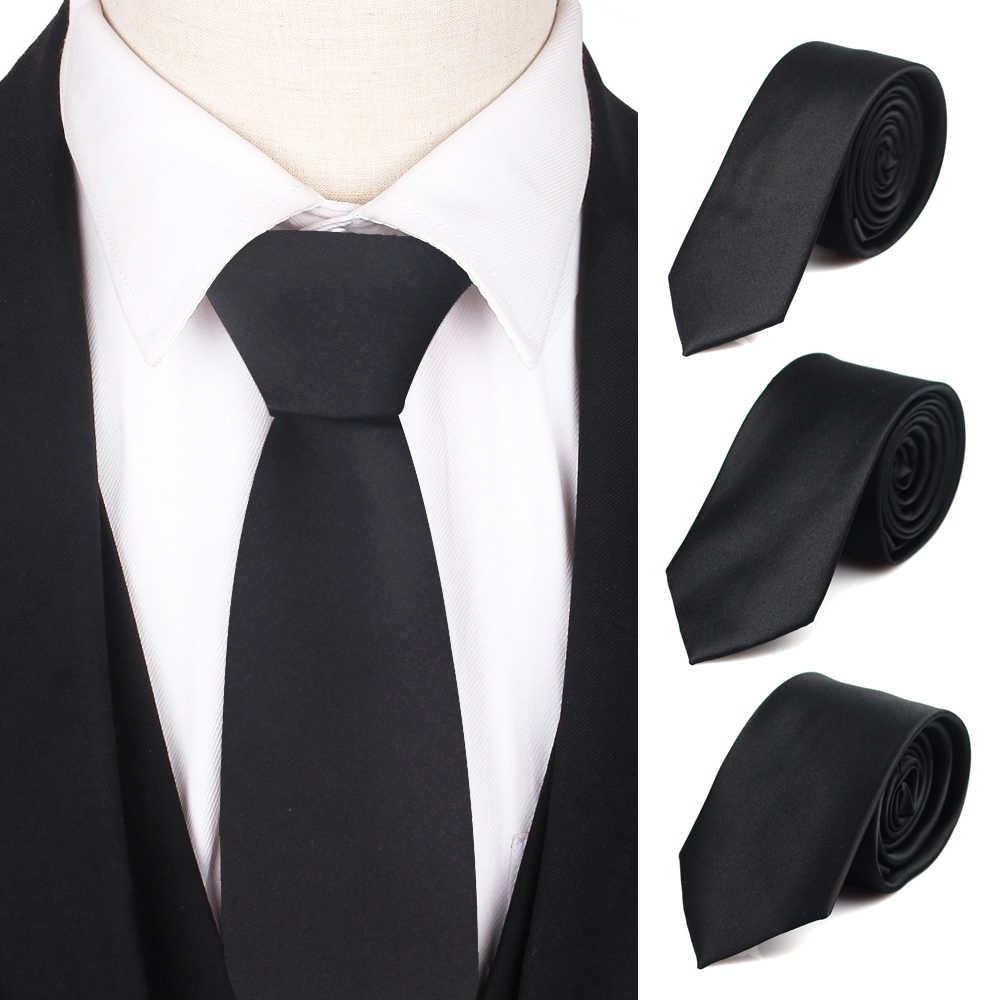tie: (177, 214, 517, 980)
